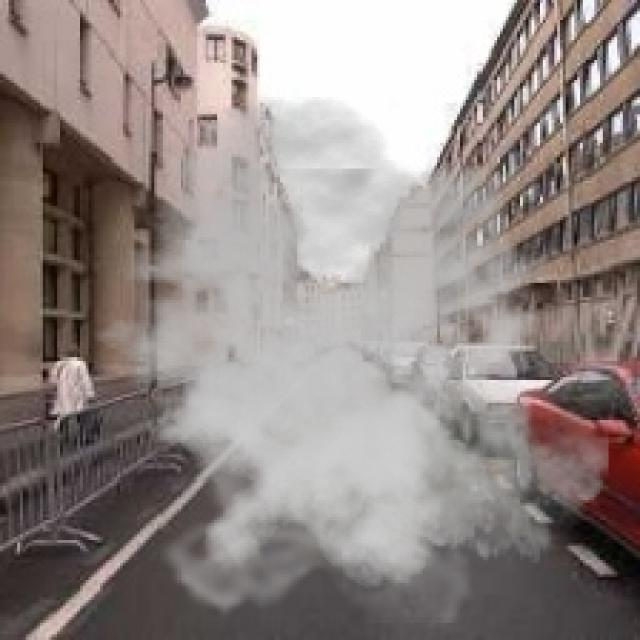smoke: (71, 94, 608, 623)
